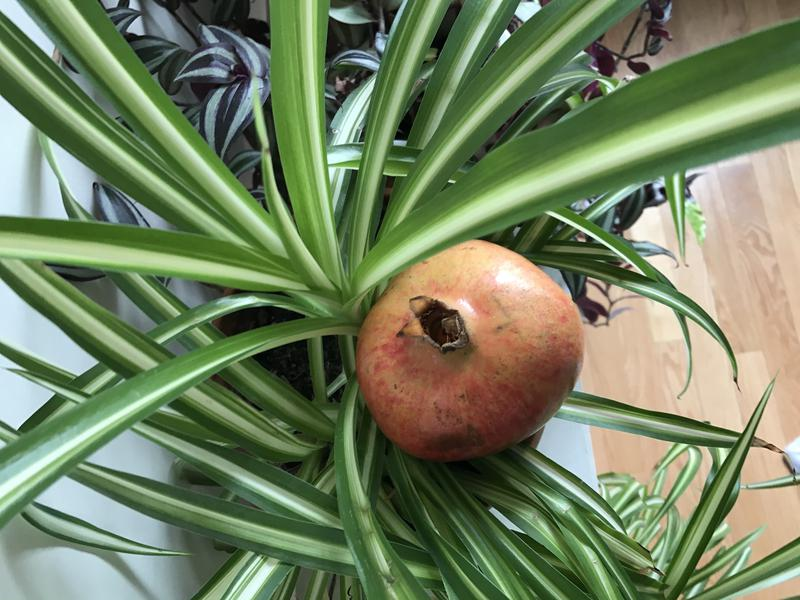pomegranate: (341, 224, 592, 479)
